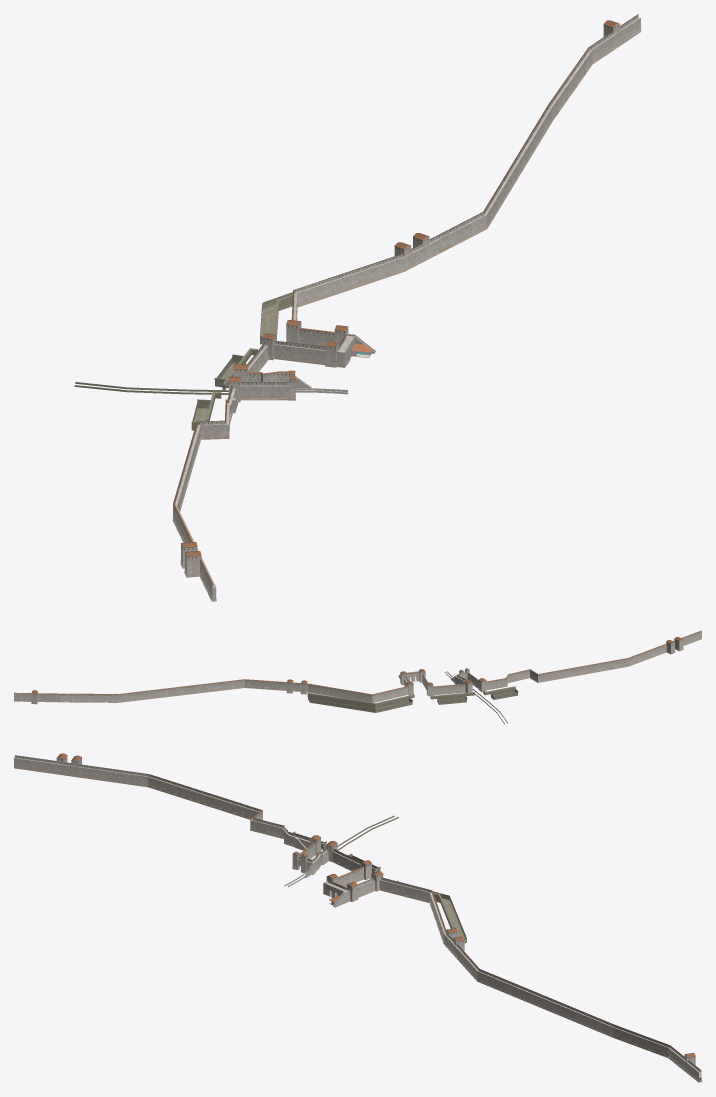
Rendered from wall.fbx.
The picture shows the model from 3 angles, top to bottom: view 1: azimuth 30°, elevation 25°; view 2: azimuth 150°, elevation 25°; view 3: azimuth 270°, elevation 25°; orthographic projection. The views are drawn at different scales.
Parts seen in each view (by area): view 1: Group21, Group29, Group7, Group10; view 2: Group21, Group29, Group25, Group1, Group26, Group18; view 3: Group21, Group26, Group25, Group1, Group29, Group18.
Part boxes in pixels (bbox=[...]): Group21: bbox=[291, 14, 641, 320]; Group29: bbox=[191, 292, 292, 430]; Group7: bbox=[273, 340, 325, 365]; Group10: bbox=[240, 382, 289, 400]; Group21: bbox=[14, 679, 408, 702]; Group29: bbox=[307, 686, 518, 712]; Group25: bbox=[538, 658, 628, 682]; Group1: bbox=[433, 678, 507, 695]; Group26: bbox=[628, 630, 701, 666]; Group18: bbox=[505, 669, 537, 682]; Group21: bbox=[379, 877, 701, 1082]; Group26: bbox=[14, 755, 148, 787]; Group25: bbox=[148, 774, 262, 819]; Group1: bbox=[284, 831, 360, 871]; Group29: bbox=[293, 831, 466, 943]; Group18: bbox=[250, 810, 287, 838].
Bounding box in the file's own units: 688 × 28.58 × 629.
